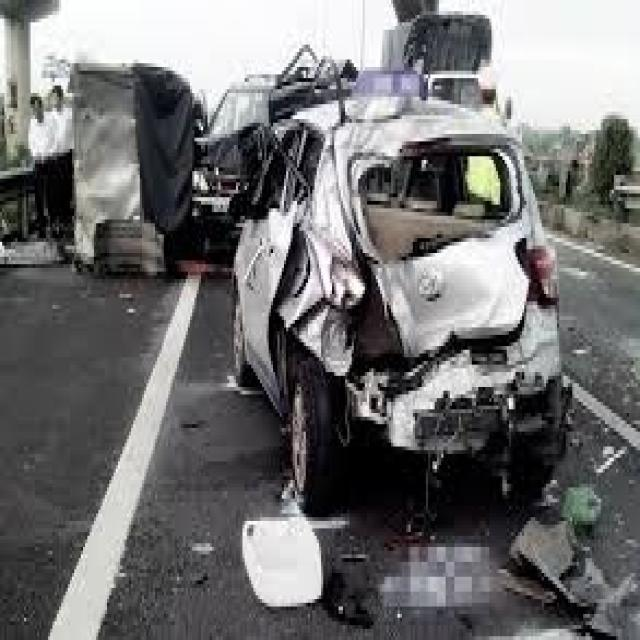accident: (67, 43, 581, 513)
